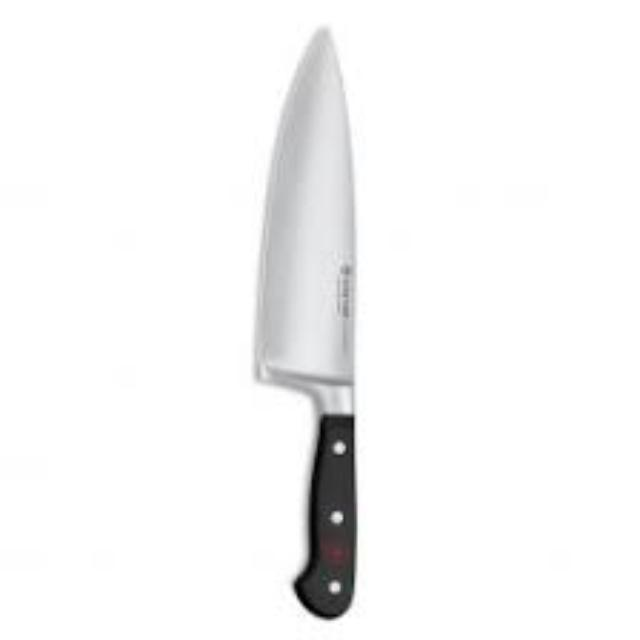knife: (252, 23, 356, 617)
